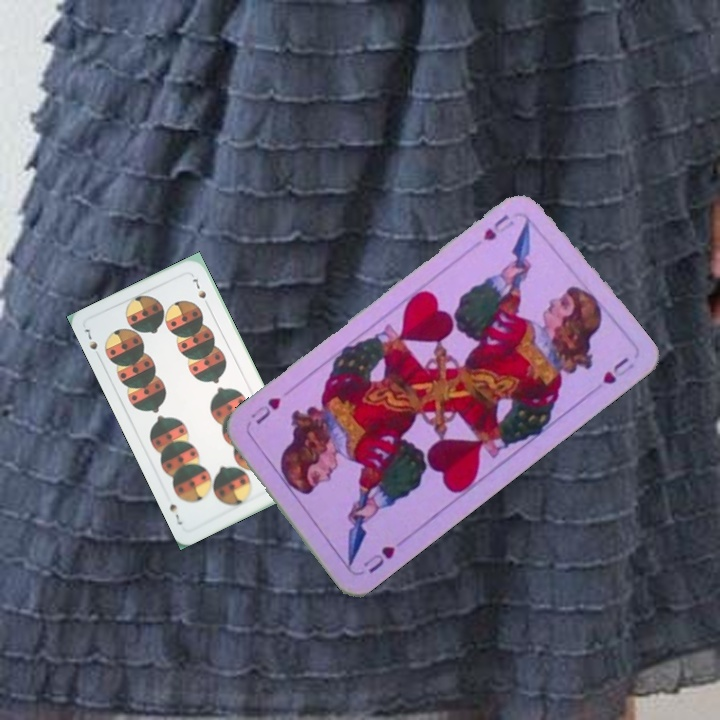HU: (359, 541, 398, 576), (479, 210, 512, 244)
S7: (81, 323, 104, 362)
